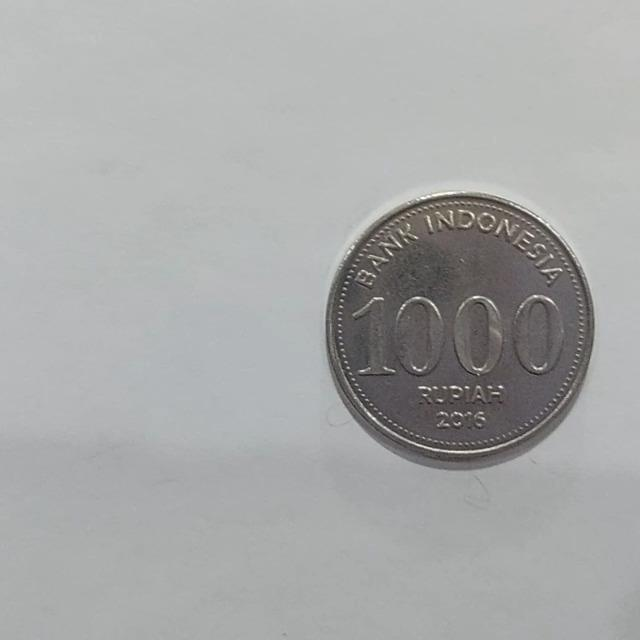Rp100: (323, 188, 596, 470)
